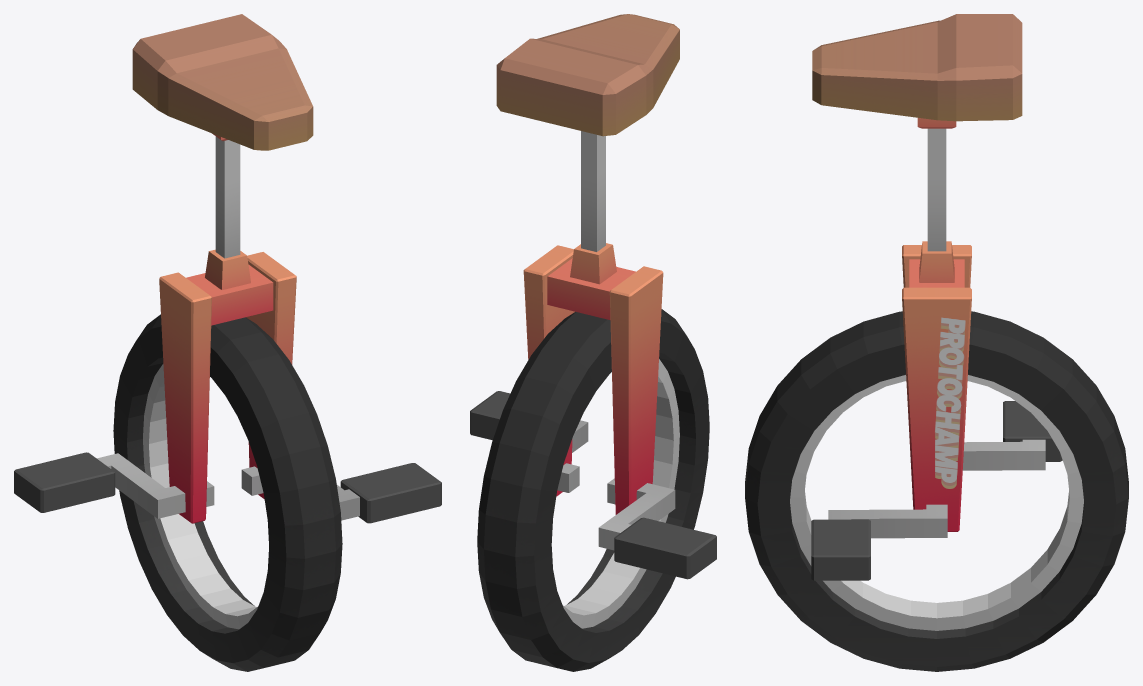
The model's file is PROTO3.fbx.
3 views of the same model, side by side, from view 1: azimuth 30°, elevation 25°; view 2: azimuth 150°, elevation 25°; view 3: azimuth 270°, elevation 25° (orthographic). The views are drawn at different scales.
Visible parts, largest first — view 1: Circle.005, Cube.024, Cube.023, Cube.022; view 2: Circle.005, Cube.024, Cube.023, Cube.022; view 3: Circle.005, Cube.024, Cube.022, Cube.023.
Part boxes in pixels (box(x1,y1,x2,y2)): Circle.005: box(113, 314, 342, 671); Cube.024: box(132, 14, 313, 523); Cube.023: box(14, 452, 214, 518); Cube.022: box(241, 463, 441, 523); Circle.005: box(477, 309, 709, 671); Cube.024: box(496, 14, 679, 514); Cube.023: box(598, 478, 716, 579); Cube.022: box(470, 391, 588, 492); Circle.005: box(745, 311, 1128, 671); Cube.024: box(812, 14, 1022, 531); Cube.022: box(811, 504, 947, 580); Cube.023: box(962, 401, 1062, 470).
Size of the model in its own units: 412 by 766 by 427.
Materials: 1 (1 with a texture image).
